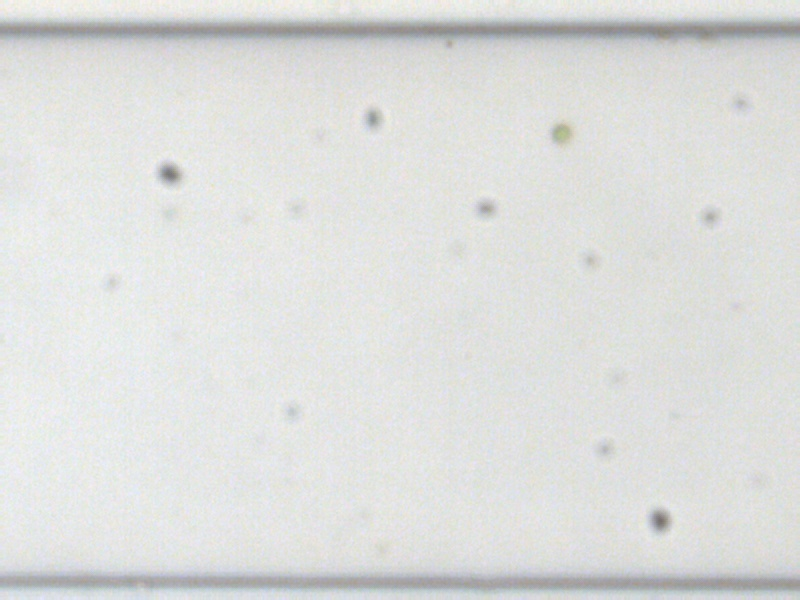Chlorella: (550, 125, 569, 144)
